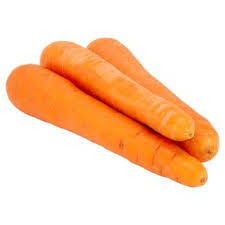carrot: (38, 39, 199, 143)
